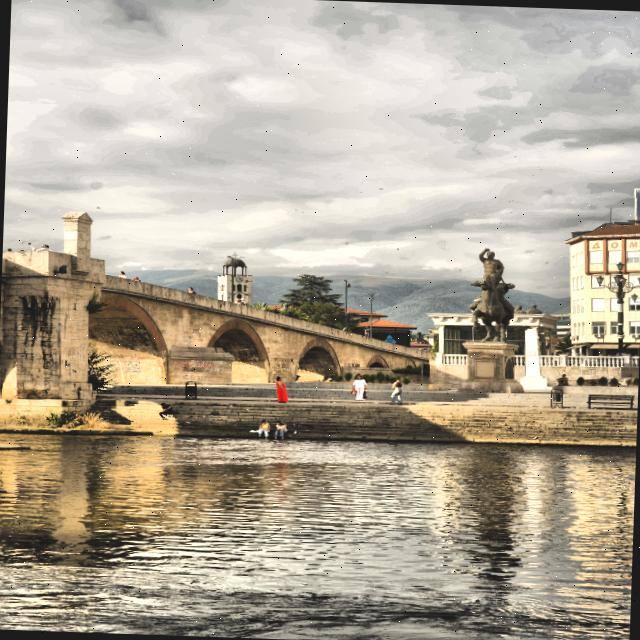stone bridge: (0, 228, 431, 393)
